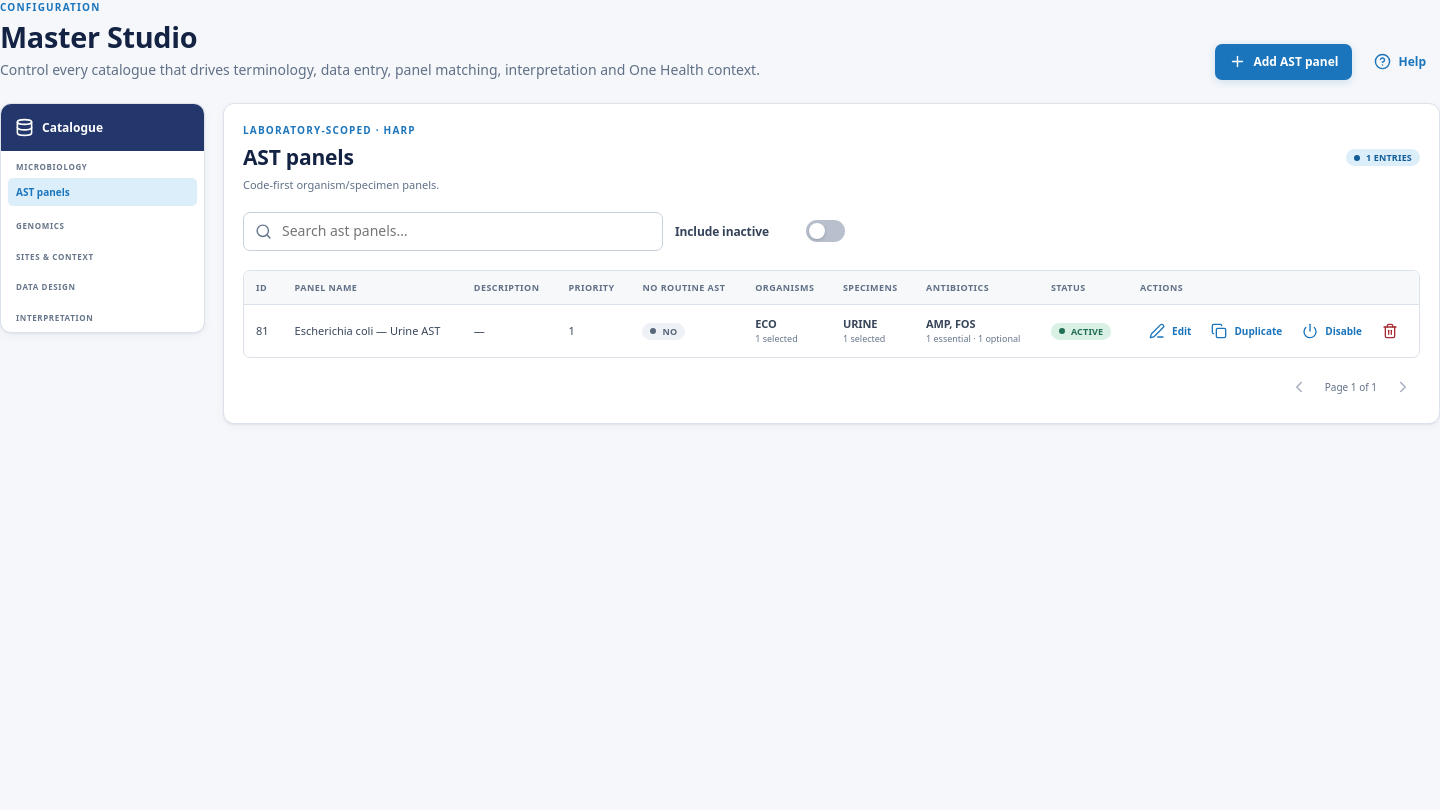
Test: MasterStudioPage AST panel editing › hides the database-assigned key and pre-fills the next priority
The image size is (1440, 810).
Click the button "Add AST panel": [1284, 62] box [1215, 44, 1352, 80]
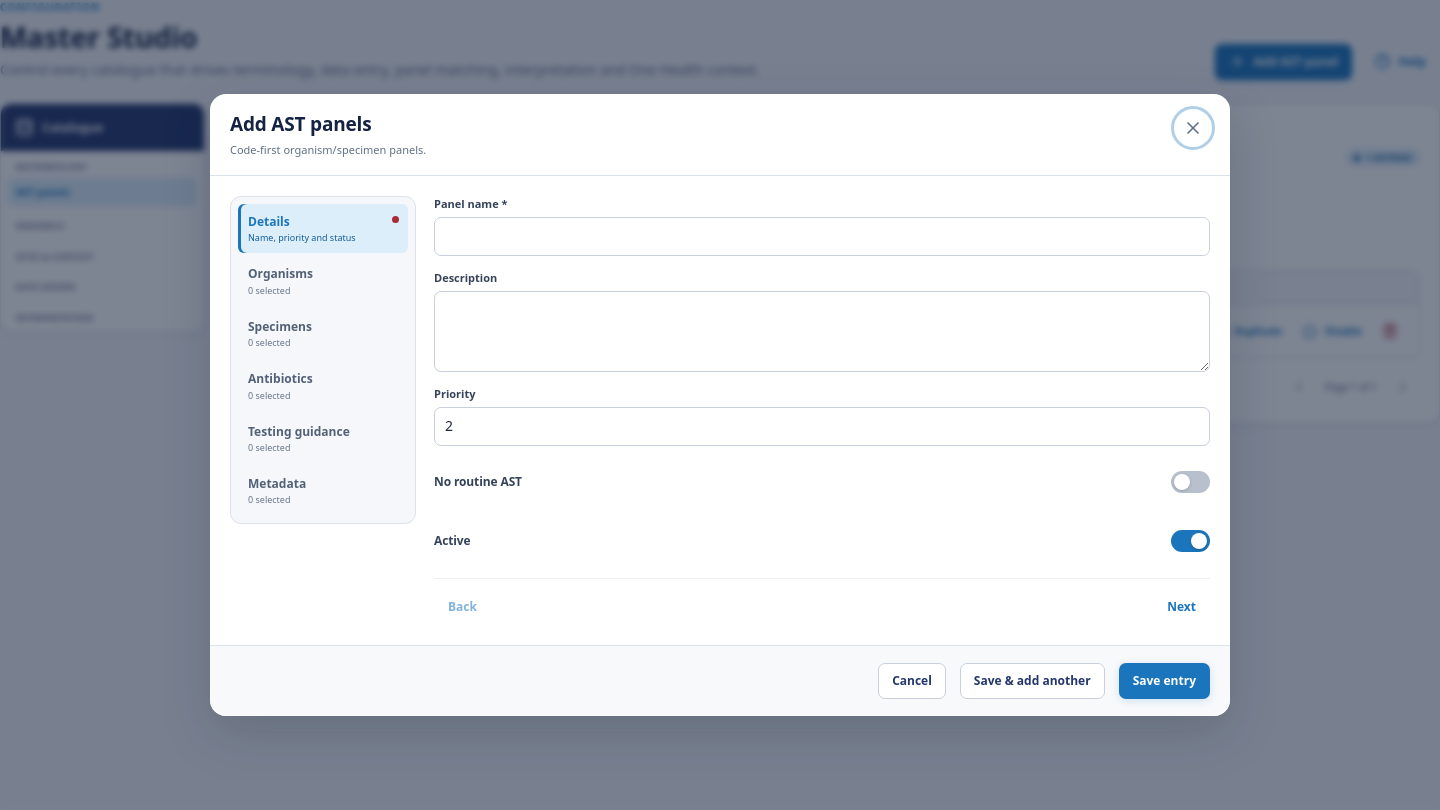
Check: the number field labelled "Priority" holds "2", box [434, 407, 1210, 446]
Check: the button "Save & add another" is shown, box [960, 663, 1105, 699]
